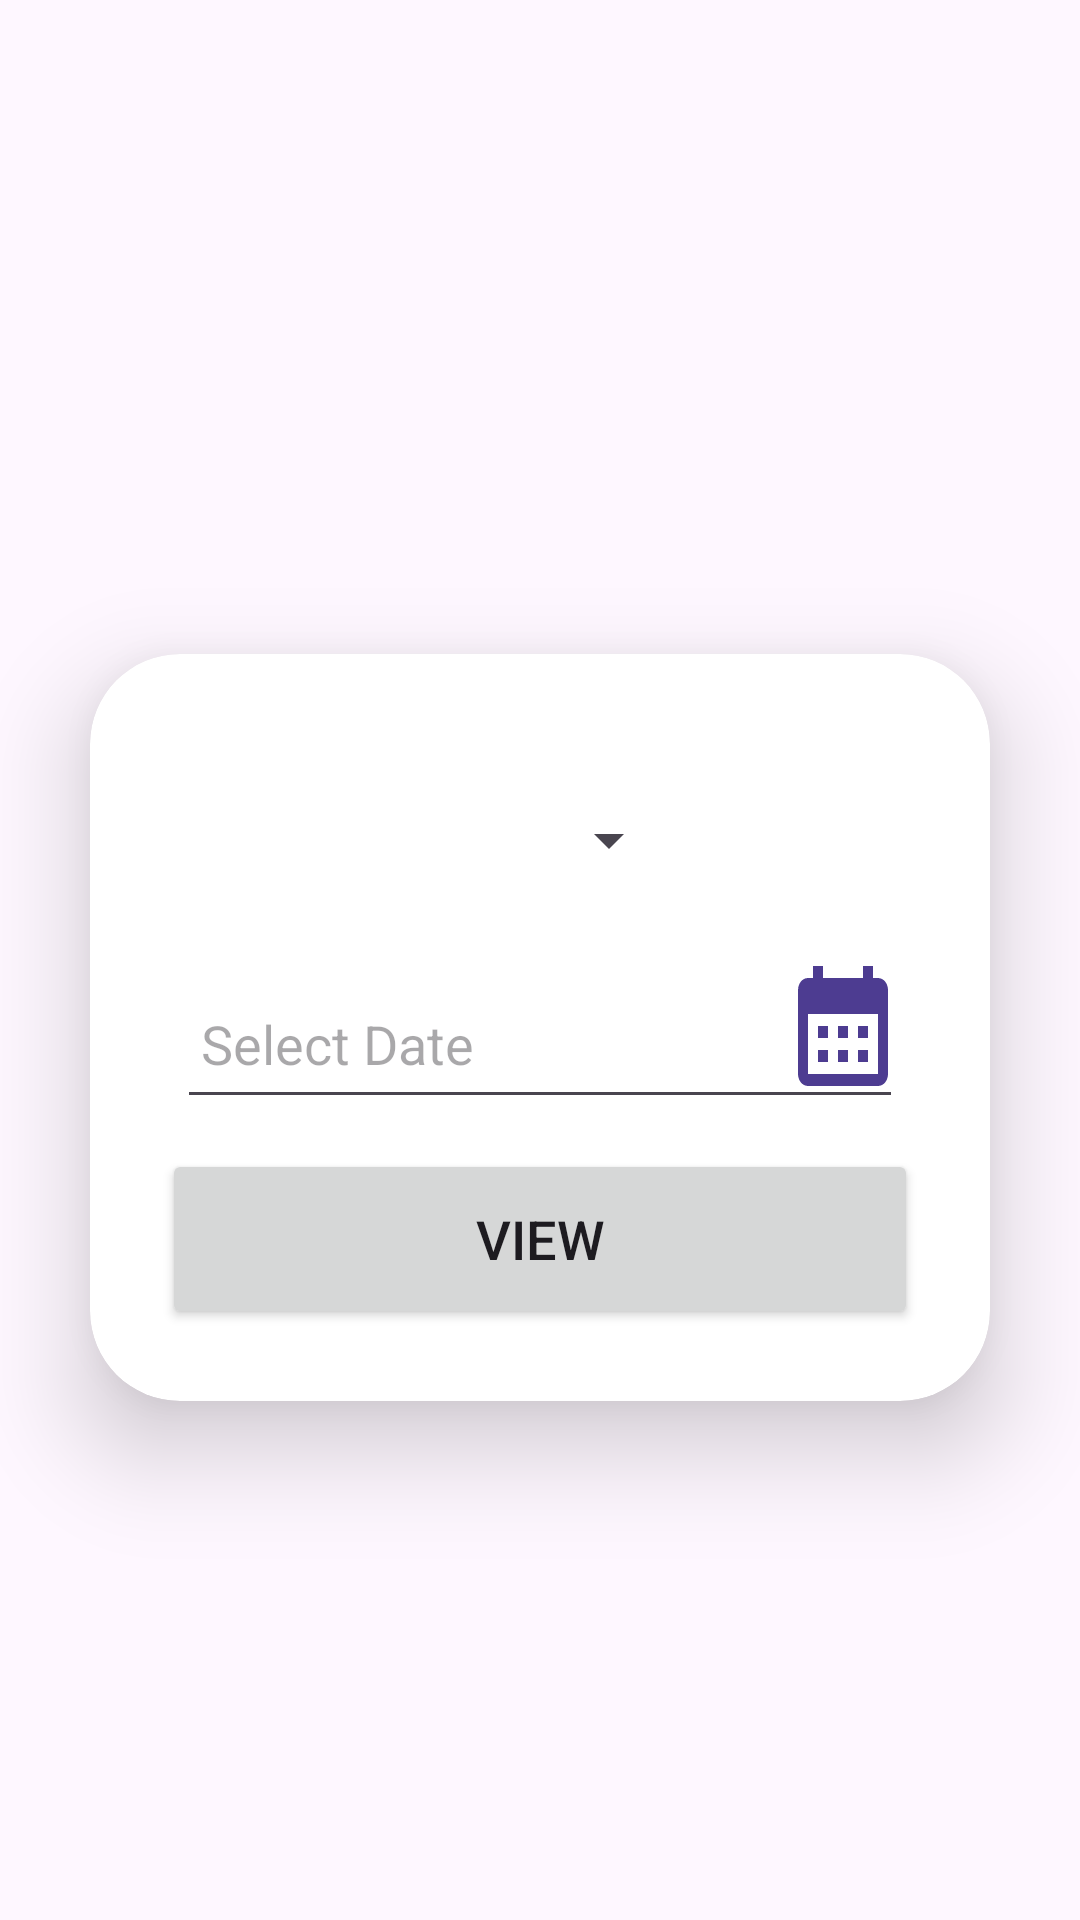

Point at icon controls on the screen. Image size 1080 × 1920, points as point (x, y).
calendar month: point (843, 1026)
